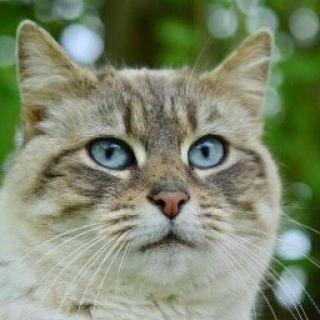cat: (13, 16, 287, 293)
nose: (137, 169, 198, 221)
